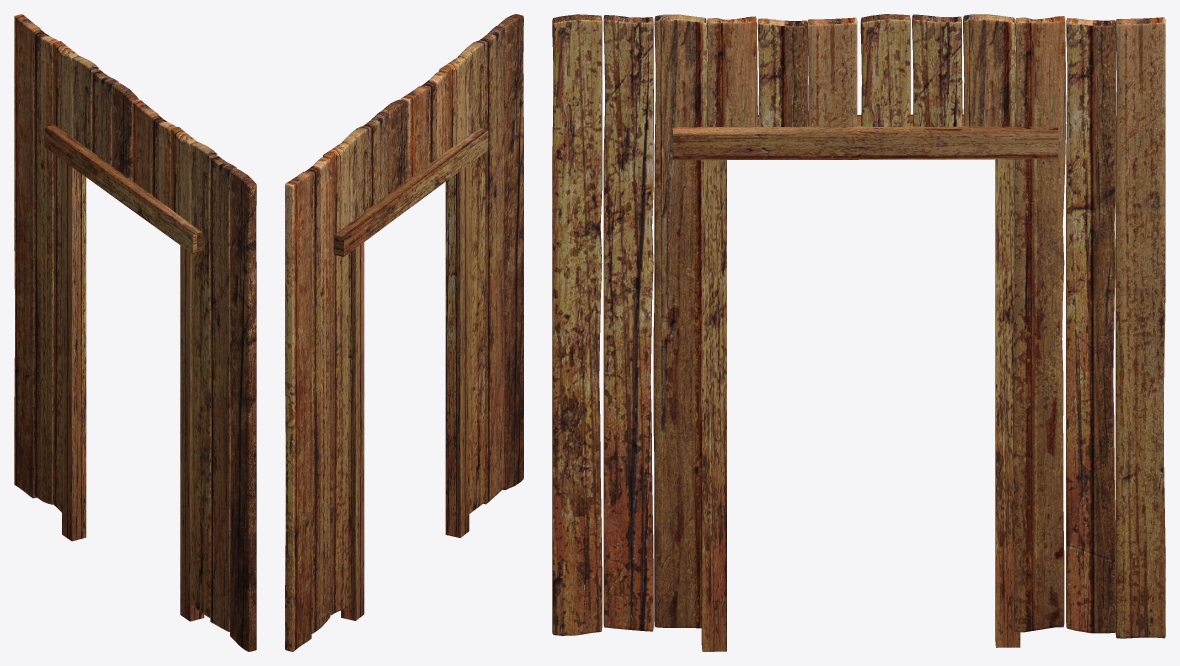
The model's file is 木栅栏02.FBX.
The picture shows the model from 3 angles, left to right: view 1: azimuth 30°, elevation 25°; view 2: azimuth 150°, elevation 25°; view 3: azimuth 270°, elevation 25°; orthographic projection. The views are drawn at different scales.
Visible parts, largest first — view 1: wood:wood:polySurface07; view 2: wood:wood:polySurface07; view 3: wood:wood:polySurface07.
Part boxes in pixels (x1,y1,x2,y2): wood:wood:polySurface07: (14,14,256,651); wood:wood:polySurface07: (285,14,523,651); wood:wood:polySurface07: (552,14,1165,651).
Size of the model in its own units: 5.9 by 77.79 by 88.15.
